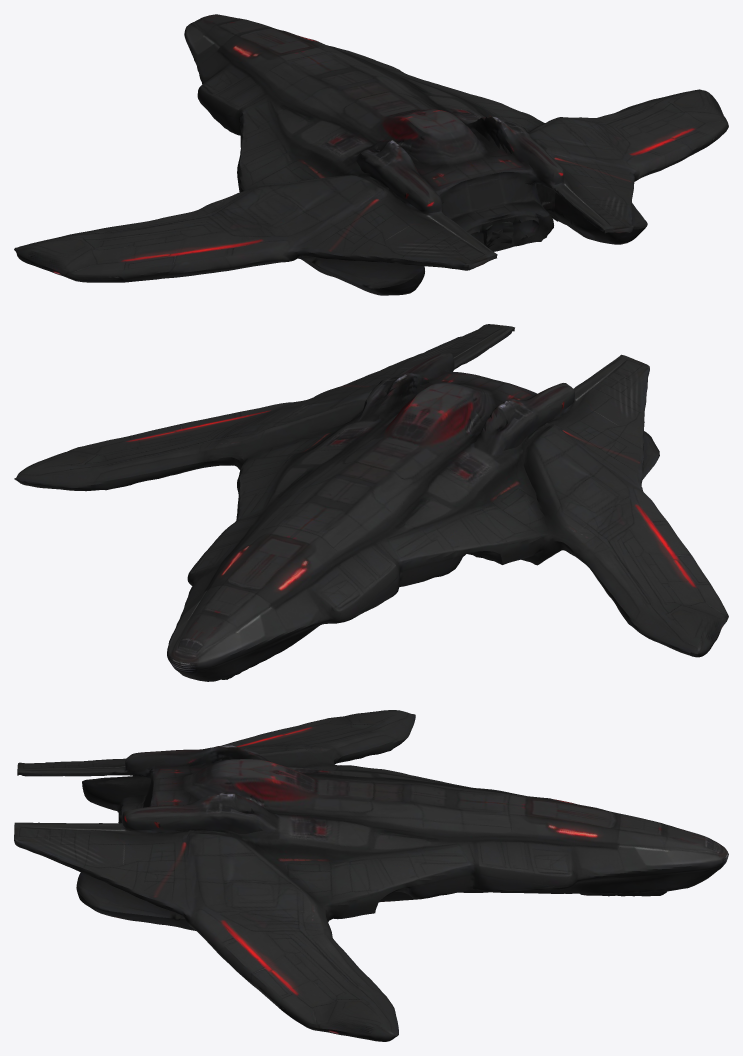
File: Eidolon Shadow.glb
3 renders of one model, top to bottom at view 1: azimuth 30°, elevation 25°; view 2: azimuth 150°, elevation 25°; view 3: azimuth 270°, elevation 25°, orthographic. The views are drawn at different scales.
Parts seen in each view (by area): view 1: Eidolon_Shadow; view 2: Eidolon_Shadow; view 3: Eidolon_Shadow.
Part boxes in pixels (box(x1,y1,x2,y2)): Eidolon_Shadow: box(14, 14, 728, 295); Eidolon_Shadow: box(14, 324, 728, 681); Eidolon_Shadow: box(14, 710, 728, 1041).
Bounding box in the file's own units: 33.69 × 5.87 × 31.45.
1 material, 1 textured.
